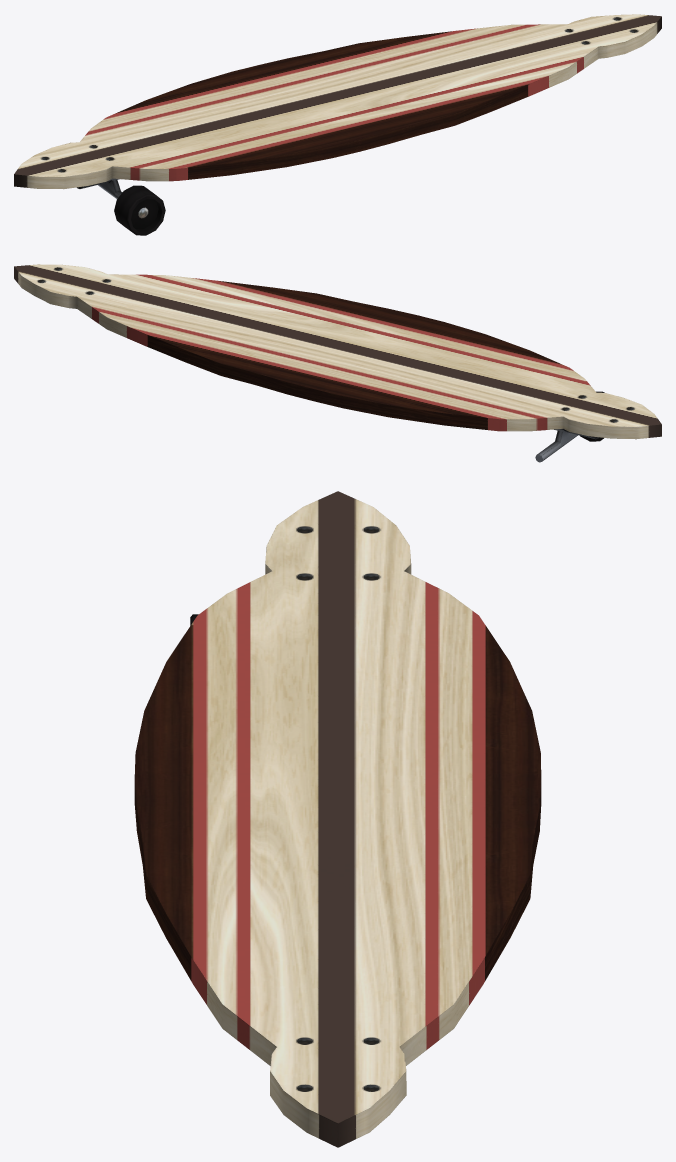
File: SkateBoard11.fbx
3 views of the same model, one above another, from view 1: azimuth 30°, elevation 25°; view 2: azimuth 150°, elevation 25°; view 3: azimuth 270°, elevation 25° (orthographic). The views are drawn at different scales.
Parts seen in each view (by area): view 1: Board, wheel; view 2: Board, BoardBase; view 3: Board.
Part boxes in pixels (x1,y1,x2,y2): Board: (14, 14, 661, 189); wheel: (114, 185, 165, 235); Board: (14, 264, 661, 439); BoardBase: (535, 428, 598, 462); Board: (134, 491, 541, 1147).
Bounding box in the file's own units: 0.7037 × 0.0603 × 0.1912.
